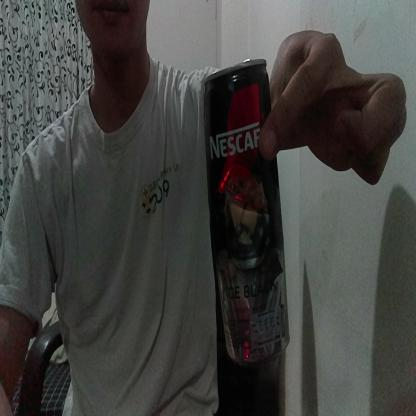alumunium_can: (200, 59, 290, 356)
